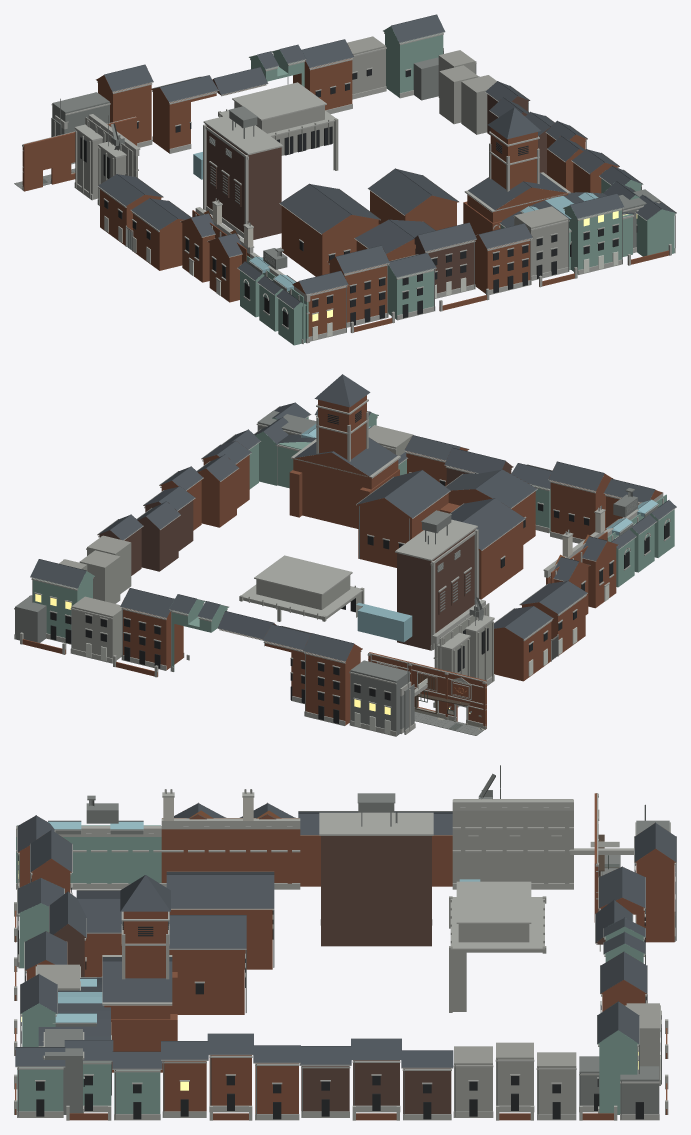
File: ellery-public-front.glb
The picture shows the model from 3 angles, top to bottom: view 1: azimuth 30°, elevation 25°; view 2: azimuth 150°, elevation 25°; view 3: azimuth 270°, elevation 25°; orthographic projection. The views are drawn at different scales.
Visible parts, largest first — view 1: conservatory_west_elevation, ellery_public_front; view 2: conservatory_west_elevation, ellery_public_front, ellery_public_forecourt; view 3: conservatory_west_elevation, ellery_public_front.
Part boxes in pixels (bbox=[...]): conservatory_west_elevation: bbox=[51, 14, 676, 345]; ellery_public_front: bbox=[22, 116, 136, 191]; conservatory_west_elevation: bbox=[14, 374, 676, 736]; ellery_public_front: bbox=[367, 652, 486, 729]; ellery_public_forecourt: bbox=[414, 712, 485, 735]; conservatory_west_elevation: bbox=[14, 765, 676, 1120]; ellery_public_front: bbox=[594, 793, 604, 922].
Size of the model in its own units: 91.76 by 27.7 by 95.67.
32 materials, 3 textured.
